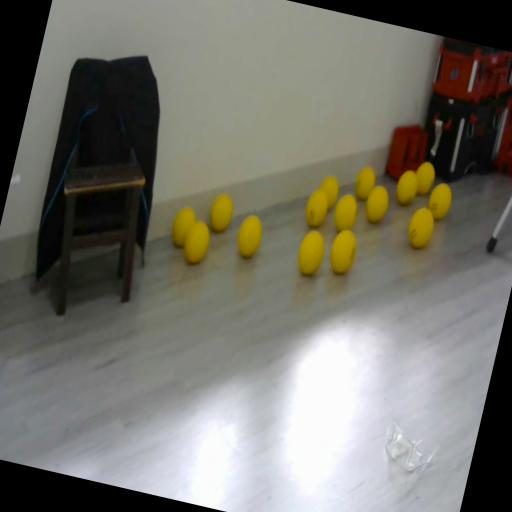FUEL: (293, 226, 329, 278), (178, 216, 214, 268), (325, 226, 361, 277), (233, 212, 267, 260), (404, 206, 438, 250), (330, 190, 362, 236), (206, 190, 237, 234), (425, 182, 455, 222), (363, 184, 392, 224), (411, 158, 439, 198), (394, 168, 422, 207), (315, 173, 342, 212), (352, 164, 378, 201)
